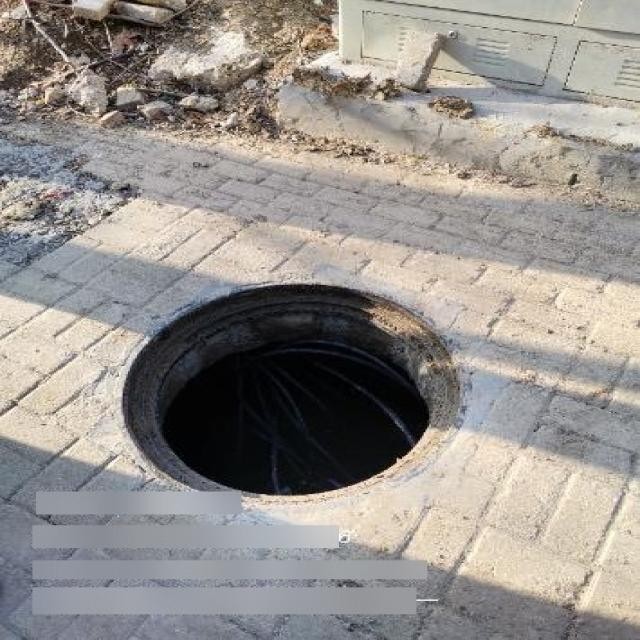Uncovered: (121, 284, 463, 505)
